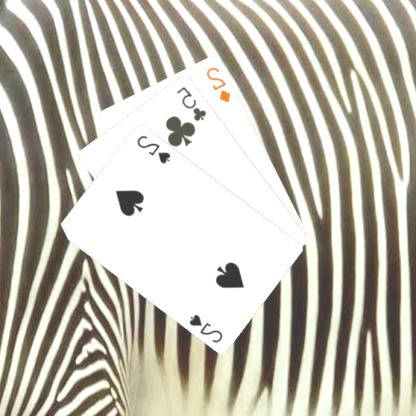2D: (205, 63, 234, 104)
2S: (136, 132, 174, 166), (188, 310, 226, 344)
5C: (175, 84, 210, 122)
